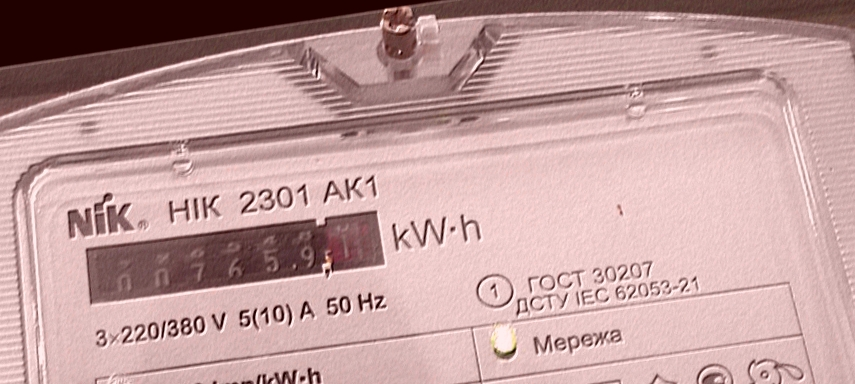0: (114, 269, 136, 297), (152, 264, 174, 292)
1: (338, 230, 356, 263)
5: (259, 245, 285, 275)
6: (224, 254, 247, 281)
7: (188, 259, 211, 287)
9: (297, 242, 319, 272)
screen: (72, 191, 400, 327)
